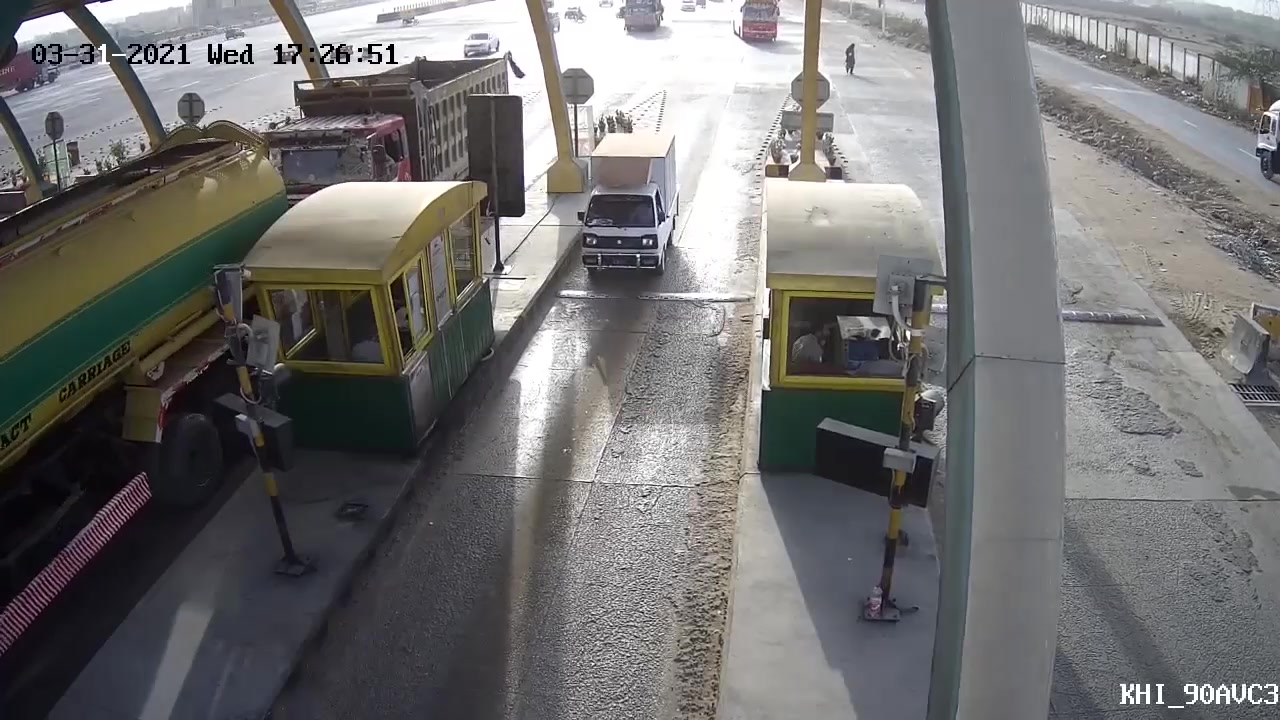F1: (570, 130, 686, 282)
